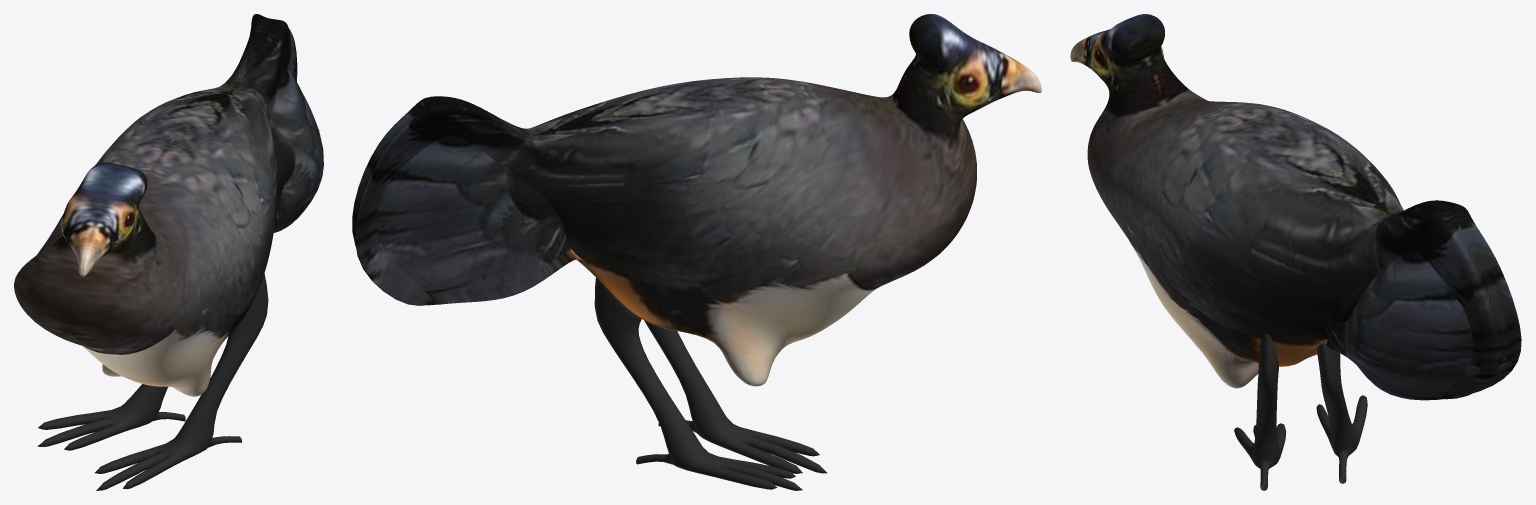
The model's file is maleo.fbx.
3 renders of one model, left to right at view 1: azimuth 30°, elevation 25°; view 2: azimuth 150°, elevation 25°; view 3: azimuth 270°, elevation 25°, orthographic. The views are drawn at different scales.
Visible parts, largest first — view 1: badan, kaki kanan, kaki kiri; view 2: badan, kaki kiri, kaki kanan; view 3: badan, kaki kanan, kaki kiri.
Boxes of the visible parts, left/top/right/bottom form: badan: left=14, top=14, right=323, bottom=396; kaki kanan: left=95, top=273, right=268, bottom=490; kaki kiri: left=37, top=384, right=185, bottom=450; badan: left=352, top=14, right=1041, bottom=386; kaki kiri: left=594, top=277, right=802, bottom=490; kaki kanan: left=644, top=320, right=827, bottom=473; badan: left=1070, top=14, right=1521, bottom=400; kaki kanan: left=1234, top=334, right=1286, bottom=490; kaki kiri: left=1316, top=343, right=1367, bottom=483.
Size of the model in its own units: 431 by 371 by 390.
2 materials, 1 textured.
